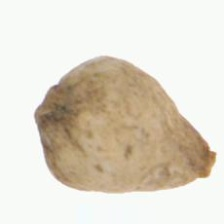L1: (32, 84, 65, 139), (184, 139, 217, 180)
L2: (34, 55, 217, 194)
